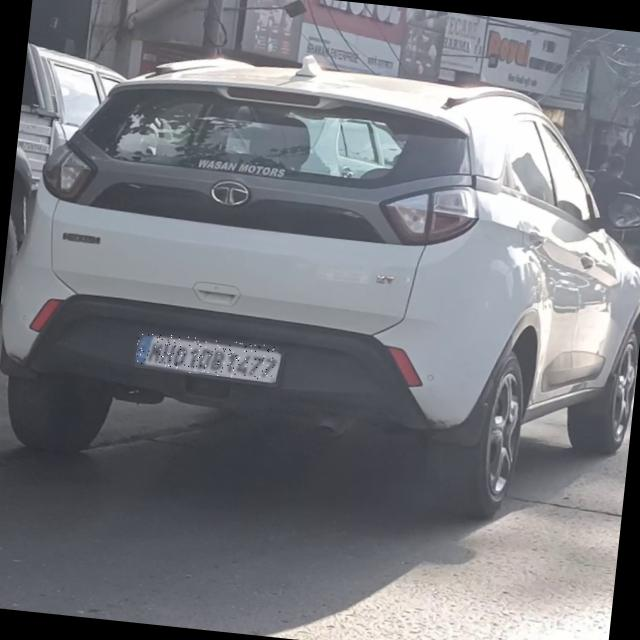Plate: (135, 333, 280, 384)
